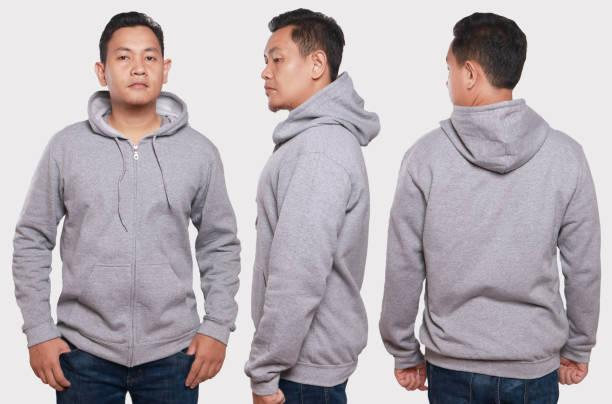sweater: (11, 89, 243, 367), (377, 99, 603, 381), (243, 69, 382, 396)
trousers: (53, 330, 201, 404), (423, 353, 560, 404), (271, 370, 351, 404)
